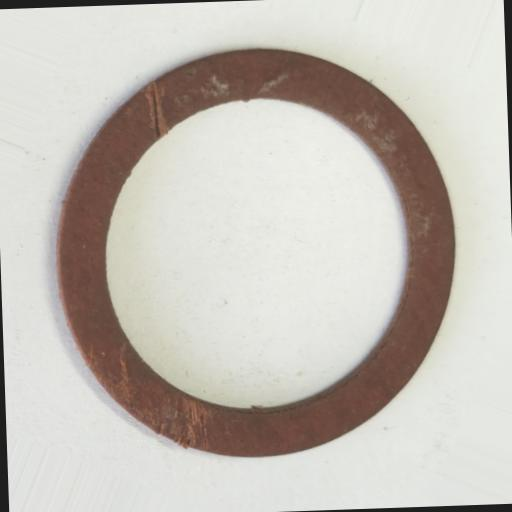defect: (88, 336, 210, 454), (146, 80, 169, 138)
